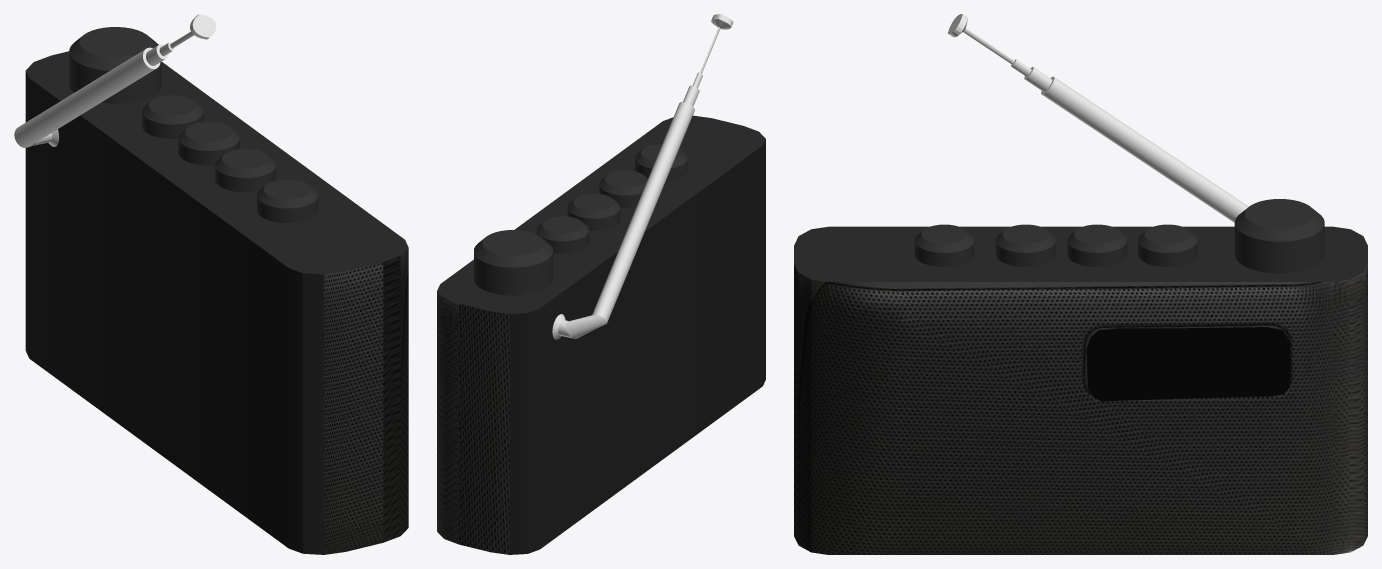
File: Radio.glb
3 renders of one model, left to right at view 1: azimuth 30°, elevation 25°; view 2: azimuth 150°, elevation 25°; view 3: azimuth 270°, elevation 25°, orthographic. The views are drawn at different scales.
Parts seen in each view (by area): view 1: Cube, Cylinder.005, Cylinder, Cylinder.004, Cylinder.003, Cylinder.002, Cylinder.001; view 2: Cube, Cylinder.005, Cylinder, Cylinder.002, Cylinder.001, Cylinder.003, Cylinder.004; view 3: Cube, Cylinder.005, Cylinder, Cylinder.002, Cylinder.004, Cylinder.001, Cylinder.003.
Boxes of the visible parts, bbox=[...] form: Cube: bbox=[25, 51, 408, 554]; Cylinder.005: bbox=[14, 14, 216, 147]; Cylinder: bbox=[69, 27, 161, 103]; Cylinder.004: bbox=[257, 179, 318, 222]; Cylinder.003: bbox=[215, 148, 276, 192]; Cylinder.002: bbox=[178, 122, 239, 165]; Cylinder.001: bbox=[142, 95, 203, 138]; Cube: bbox=[437, 115, 765, 554]; Cylinder.005: bbox=[552, 14, 733, 339]; Cylinder: bbox=[474, 230, 552, 295]; Cylinder.002: bbox=[567, 193, 620, 230]; Cylinder.001: bbox=[536, 216, 589, 253]; Cylinder.003: bbox=[599, 170, 647, 207]; Cylinder.004: bbox=[635, 144, 687, 181]; Cube: bbox=[794, 226, 1367, 554]; Cylinder.005: bbox=[947, 14, 1248, 222]; Cylinder: bbox=[1234, 199, 1324, 273]; Cylinder.002: bbox=[1067, 224, 1127, 266]; Cylinder.004: bbox=[914, 224, 974, 266]; Cylinder.001: bbox=[1138, 224, 1197, 266]; Cylinder.003: bbox=[996, 224, 1055, 266].
Size of the model in its own units: 0.1498 by 0.4314 by 0.4717.
Materials: 6 (1 with a texture image).
